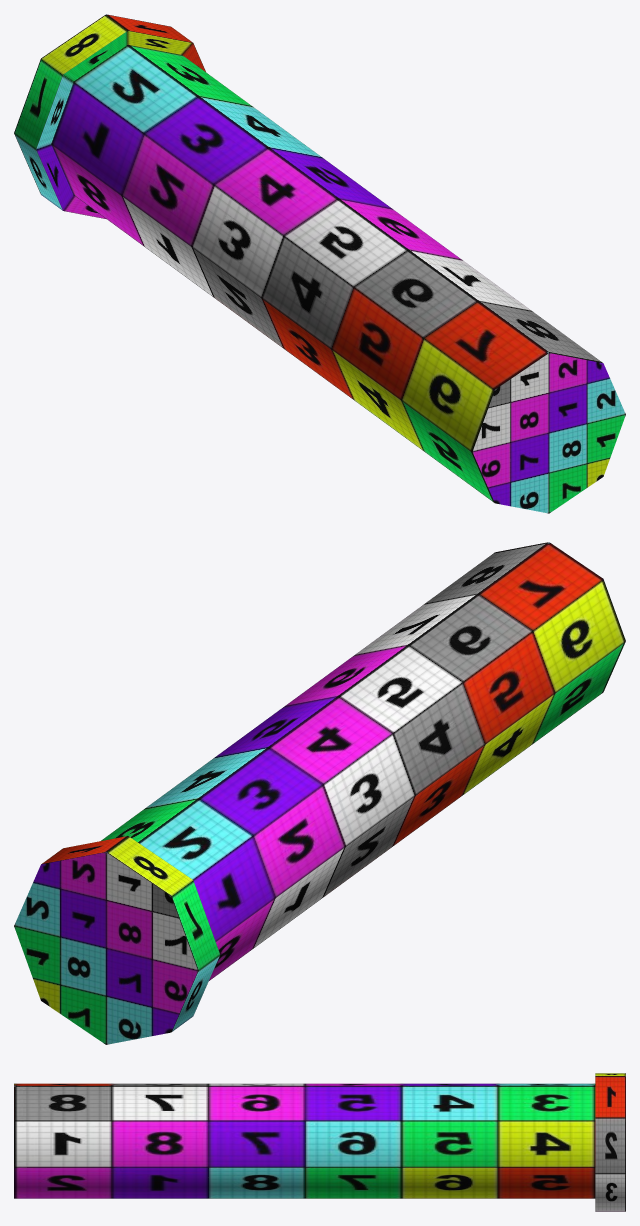
The model's file is pipe-straight.obj.
The picture shows the model from 3 angles, top to bottom: view 1: azimuth 30°, elevation 25°; view 2: azimuth 150°, elevation 25°; view 3: azimuth 270°, elevation 25°; orthographic projection. The views are drawn at different scales.
Parts seen in each view (by area): view 1: pipe; view 2: pipe; view 3: pipe.
Part boxes in pixels (left/top/right/bottom): pipe: left=14, top=14, right=625, bottom=513; pipe: left=14, top=542, right=625, bottom=1044; pipe: left=14, top=1073, right=625, bottom=1211.
Bounding box in the file's own units: 0.24 × 0.24 × 1.
1 material, 1 textured.
